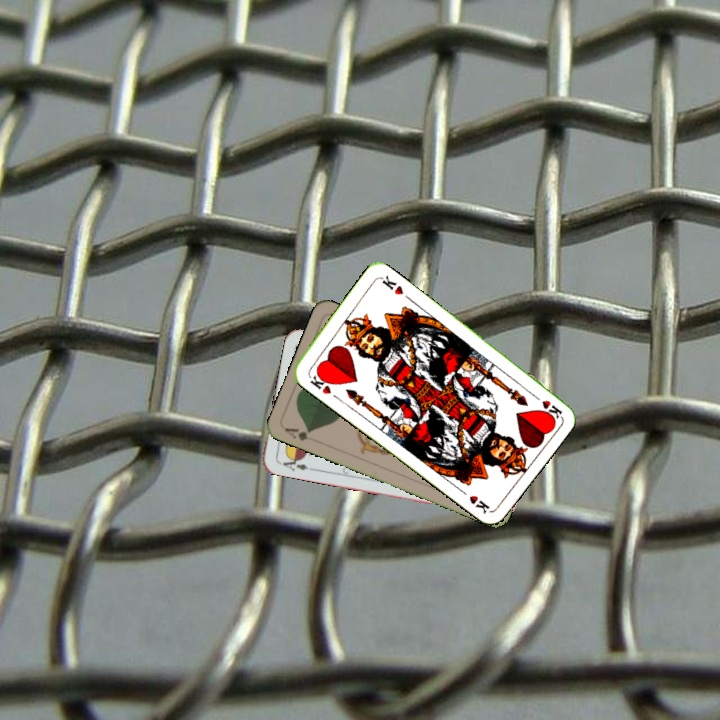EA: (275, 452, 310, 473)
GA: (280, 424, 314, 443)
HK: (527, 389, 564, 421), (306, 368, 335, 397)
